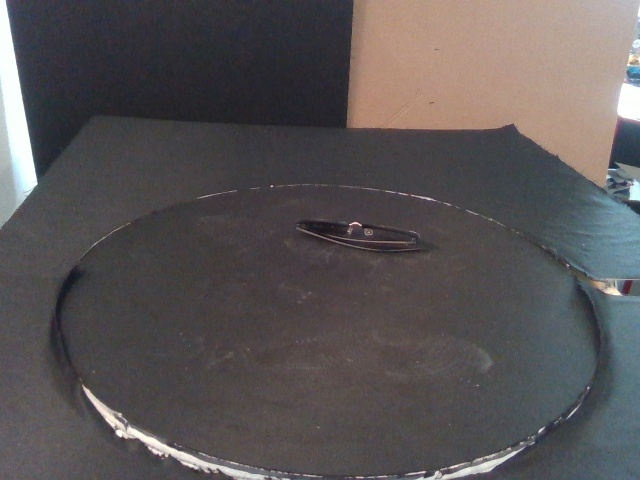glasses: (295, 217, 427, 254)
